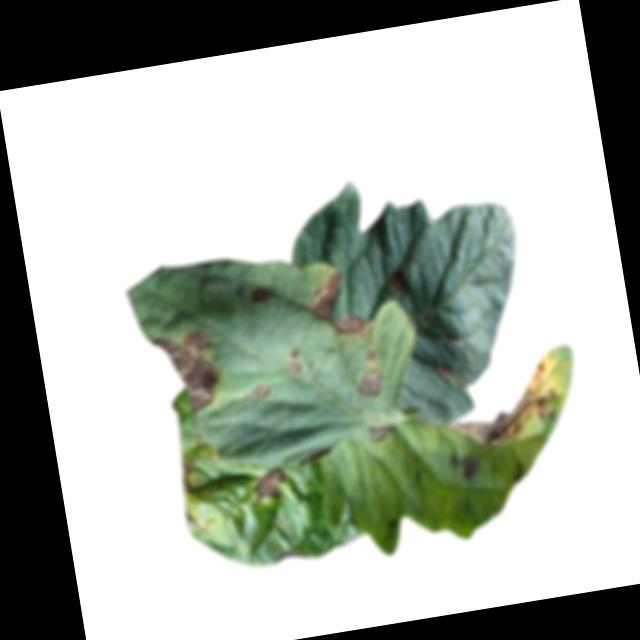Early_blight: (448, 360, 564, 454), (147, 325, 224, 421), (306, 267, 373, 345), (251, 466, 290, 501), (355, 365, 387, 400), (449, 451, 481, 485), (384, 267, 414, 301), (366, 420, 402, 447), (175, 458, 200, 494), (437, 359, 466, 390), (280, 346, 306, 378), (244, 384, 277, 407)
